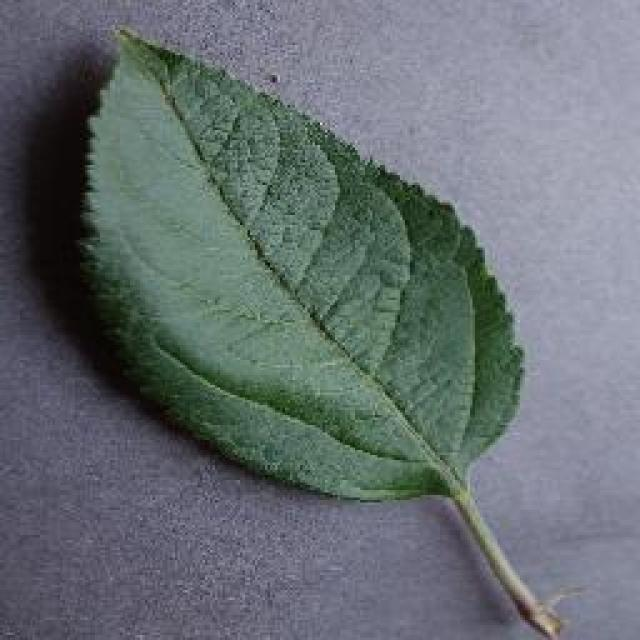apple healthy: (73, 22, 565, 638)
